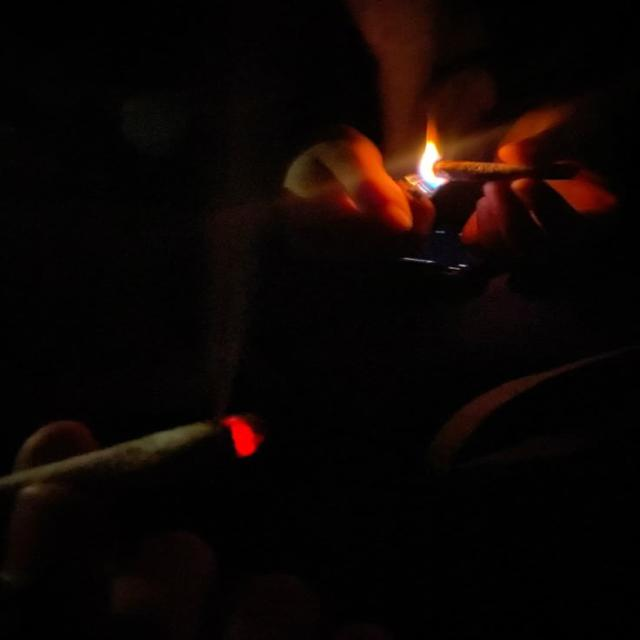fire: (418, 114, 450, 196)
